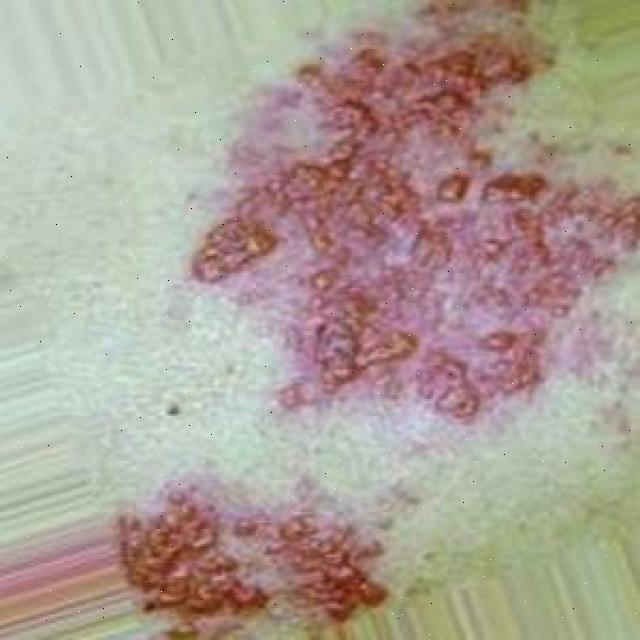Shingles: (190, 42, 640, 422), (116, 485, 389, 617)
